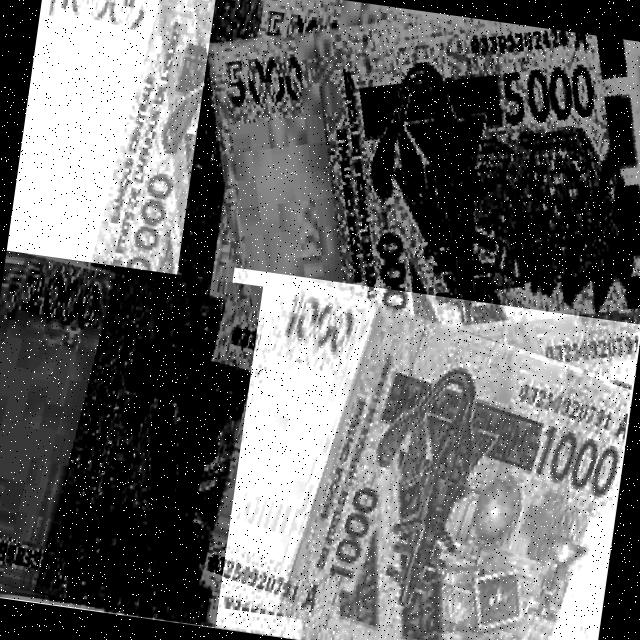junni: (209, 15, 640, 407)
niaar junni: (7, 0, 264, 288)
niaar teemeer: (190, 276, 632, 640)
nient teemeer: (0, 254, 250, 623)
